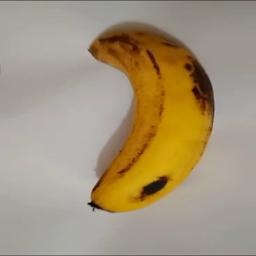Banana Semifresh: (88, 29, 215, 216)
